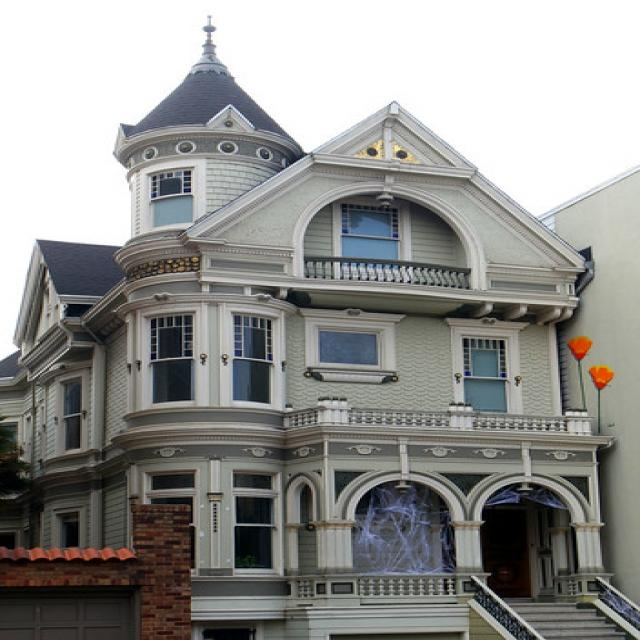Normal_building: (0, 53, 618, 636)
